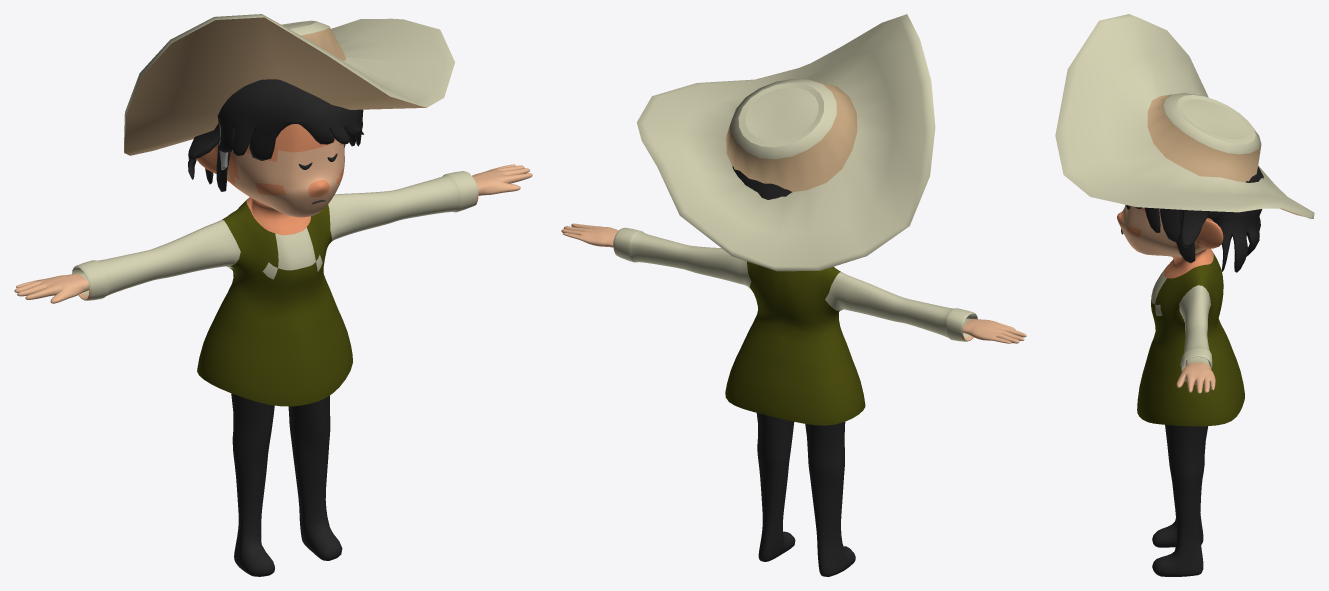
File: fbx_gardener_v58.fbx
The picture shows the model from 3 angles, left to right: view 1: azimuth 30°, elevation 25°; view 2: azimuth 150°, elevation 25°; view 3: azimuth 270°, elevation 25°; orthographic projection. The views are drawn at different scales.
Parts seen in each view (by area): view 1: md_character_colortest; view 2: md_character_colortest; view 3: md_character_colortest.
Boxes of the visible parts, left/top/right/bottom form: md_character_colortest: left=14, top=14, right=532, bottom=576; md_character_colortest: left=561, top=14, right=1026, bottom=576; md_character_colortest: left=1055, top=14, right=1314, bottom=576.
Bounding box in the file's own units: 8.58 × 9.47 × 4.37.
